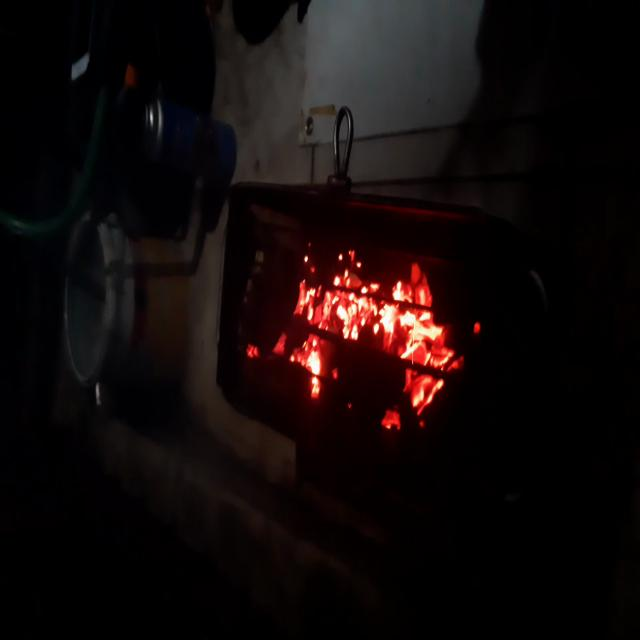Fire: (238, 234, 488, 443)
